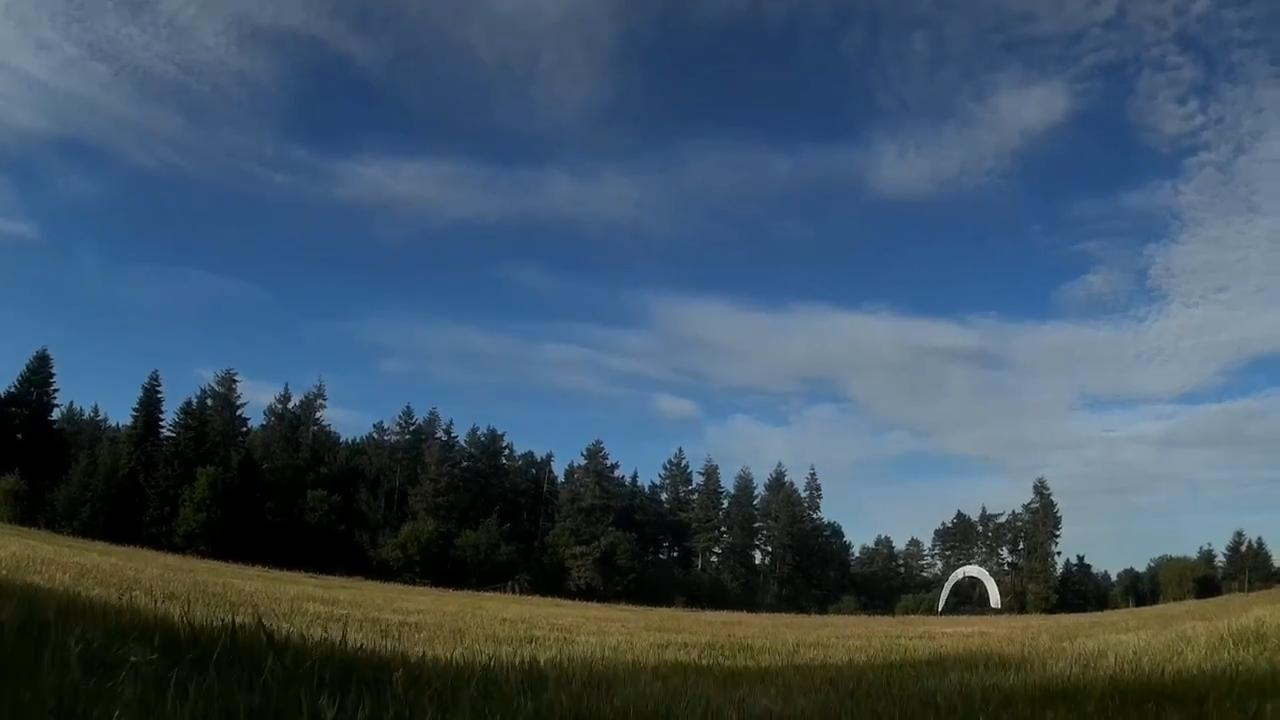gate: (936, 563, 1002, 611)
